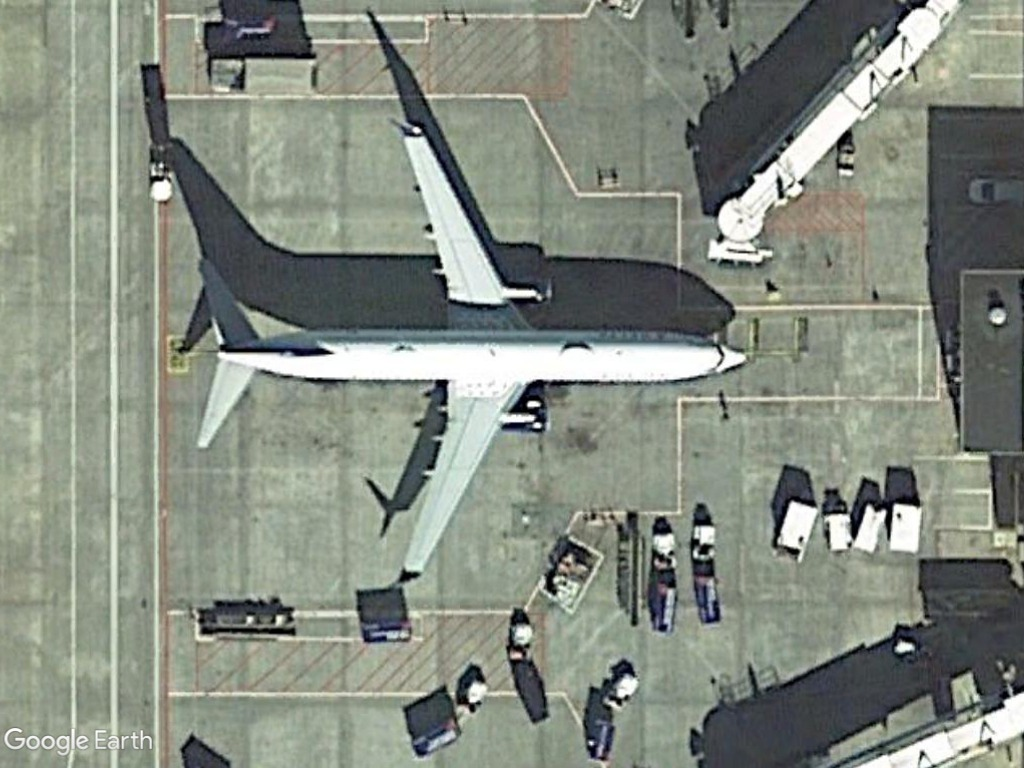airliner: (180, 115, 752, 601)
